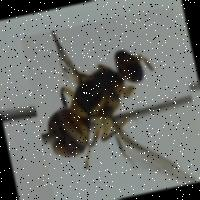Oriental-fruit-fly: (20, 4, 200, 200)
